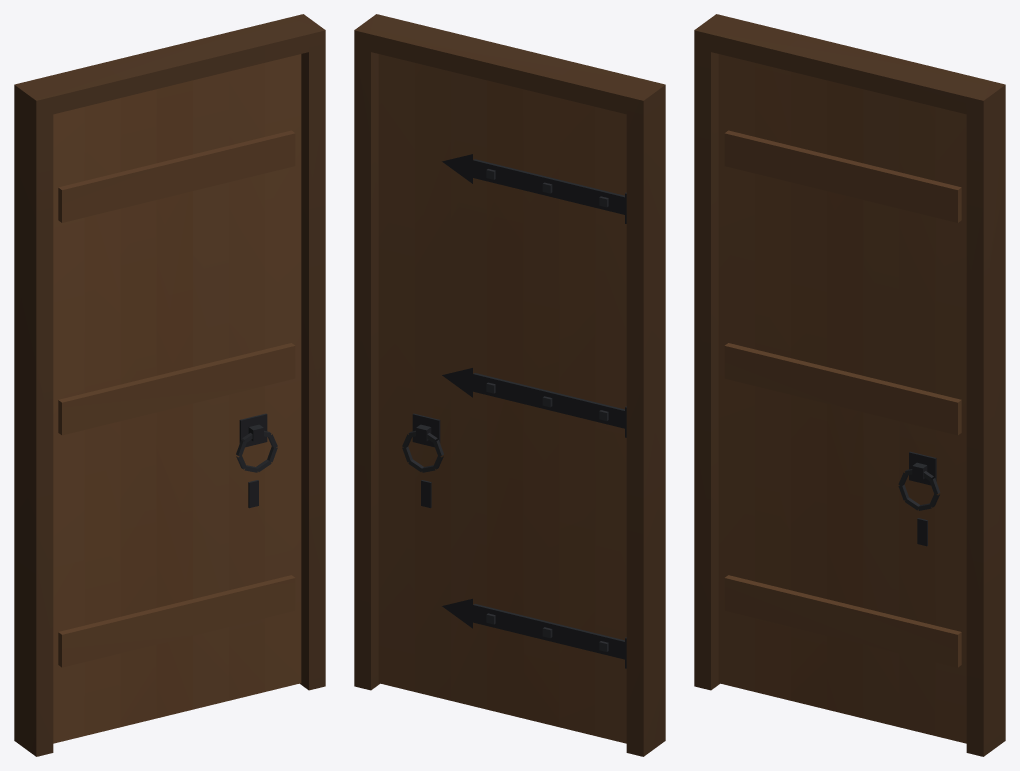
Rendered from door.oak_slim.oak.glb.
3 views of the same model, side by side, from view 1: azimuth 30°, elevation 25°; view 2: azimuth 150°, elevation 25°; view 3: azimuth 330°, elevation 25° (orthographic).
Visible parts, largest first — view 1: door_oak_slim_oak; view 2: door_oak_slim_oak; view 3: door_oak_slim_oak.
Part boxes in pixels (<box>): door_oak_slim_oak: <box>14,14,325,756</box>; door_oak_slim_oak: <box>354,14,665,756</box>; door_oak_slim_oak: <box>694,14,1005,756</box>.
Size of what is drawn, in the model's own units: 1.2 by 2.6 by 0.16.
